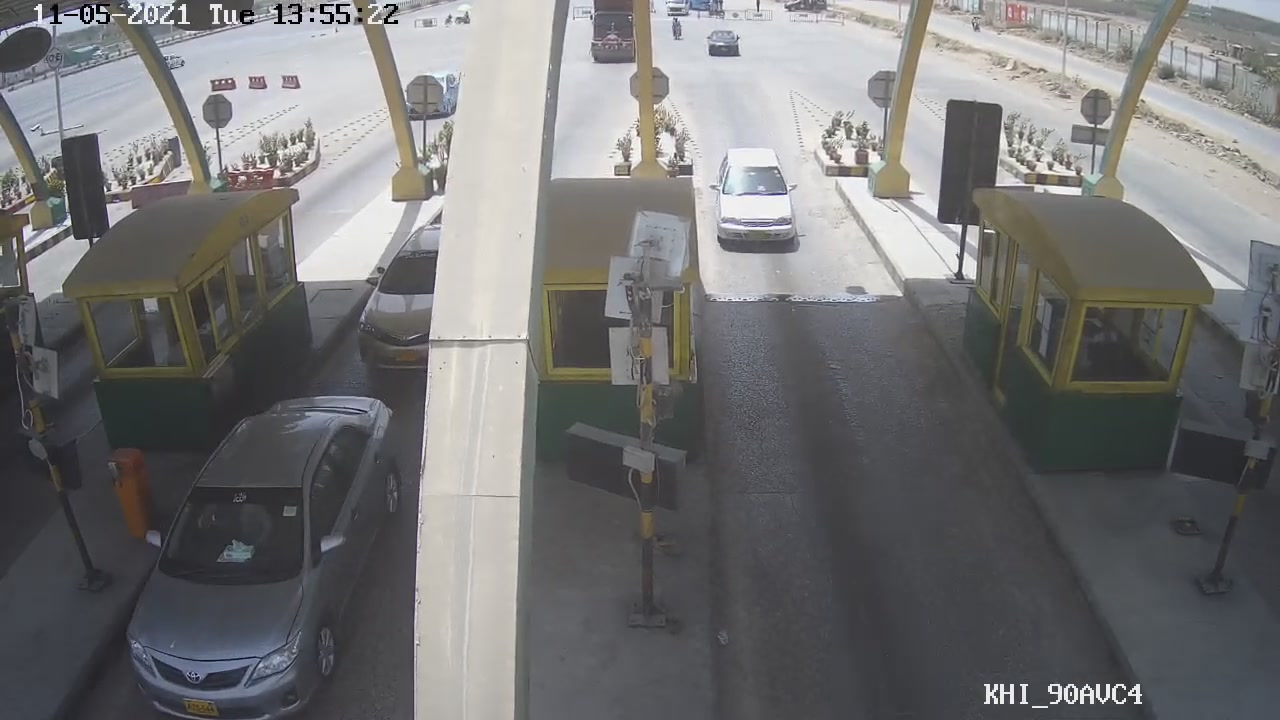F2: (702, 136, 812, 257)
